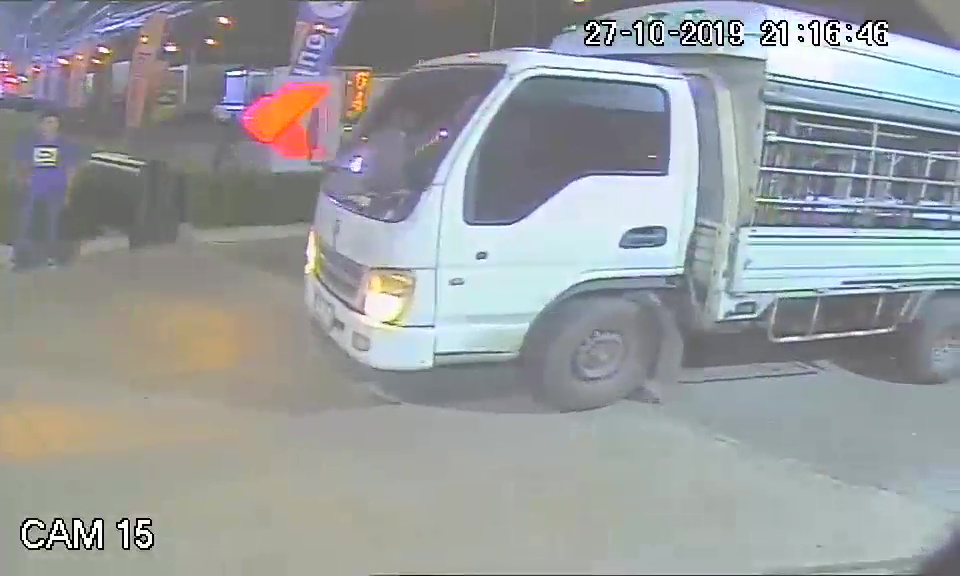truck: (303, 49, 717, 411)
